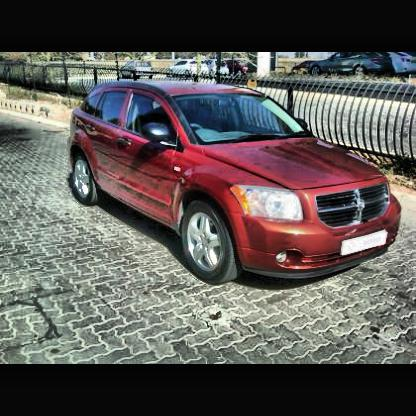Dodge Caliber Wagon 2007: (70, 82, 405, 287)
